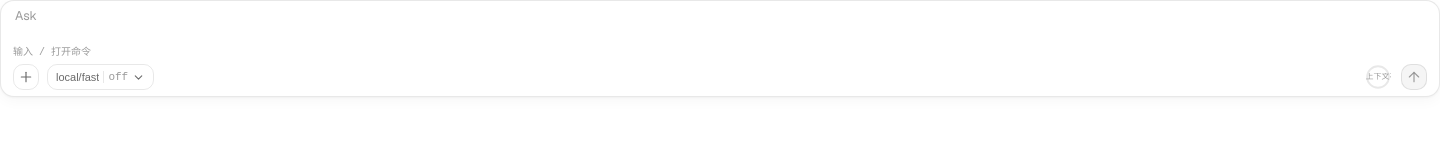
Scenario: Composer thinking level control › keeps thinking disabled for a model without reasoning support
Click the button with aria-label "local/fast · off": (101, 77) [47, 64, 154, 90]
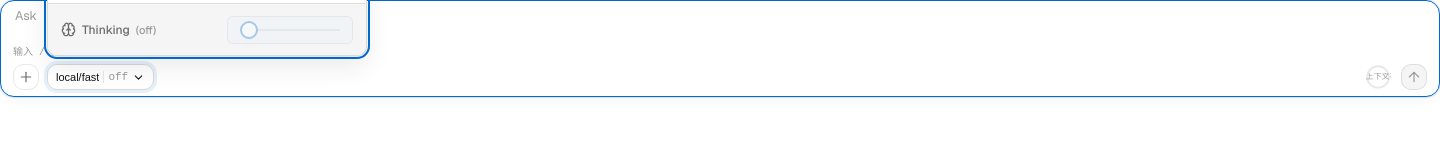
Expected: the text "Thinking" is shown, [82, 22, 130, 38]
